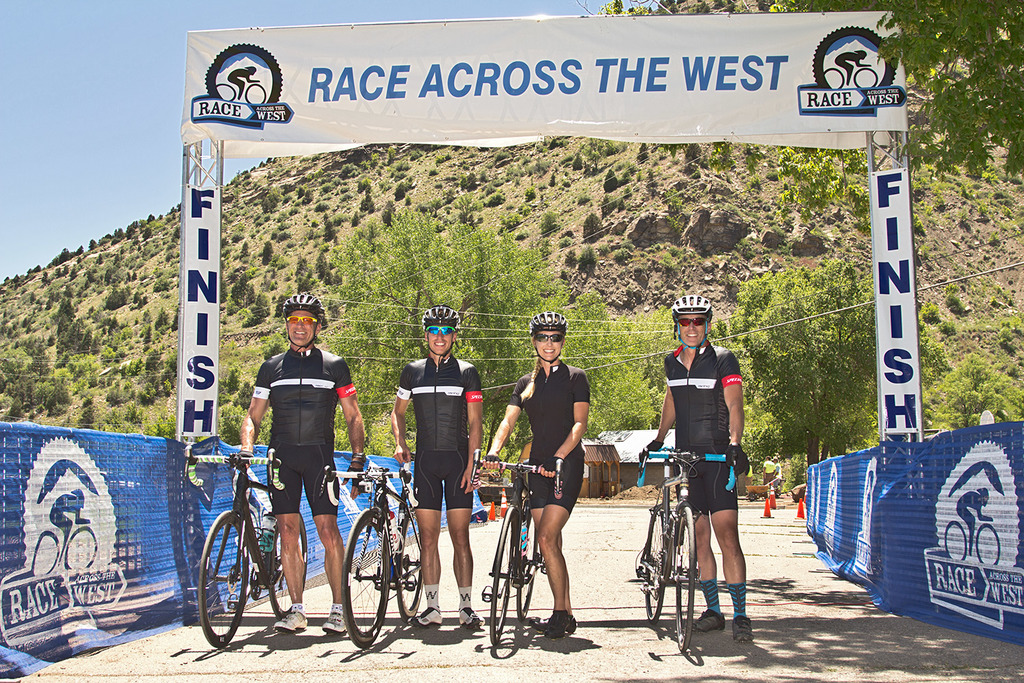Bike_toward: (179, 441, 308, 648), (637, 442, 748, 663), (332, 458, 445, 649), (462, 448, 557, 657)
